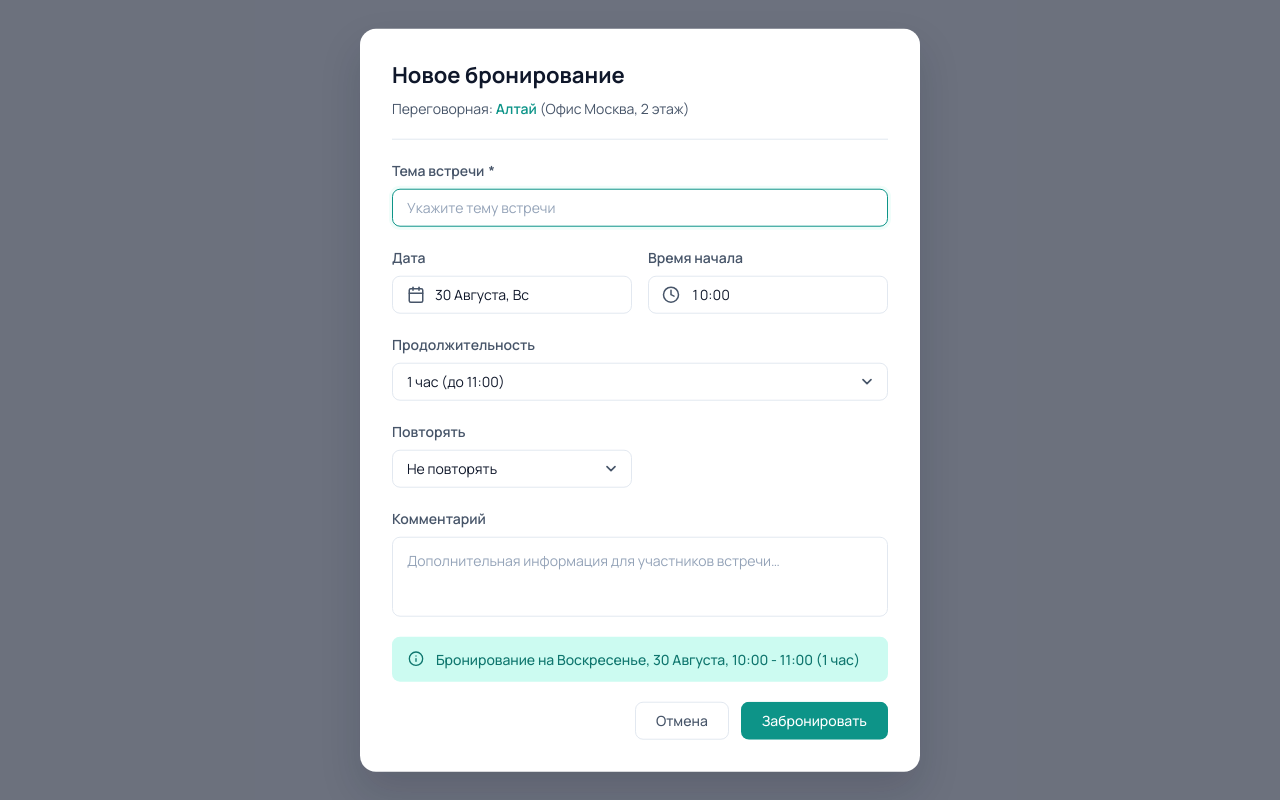
Test: CreateBookingDialog › создаёт бронь: тост об успехе и закрытие
In the field labelled "Тема встречи*": {"x": 640, "y": 207} 392,188 -> 888,226, type "Планёрка"
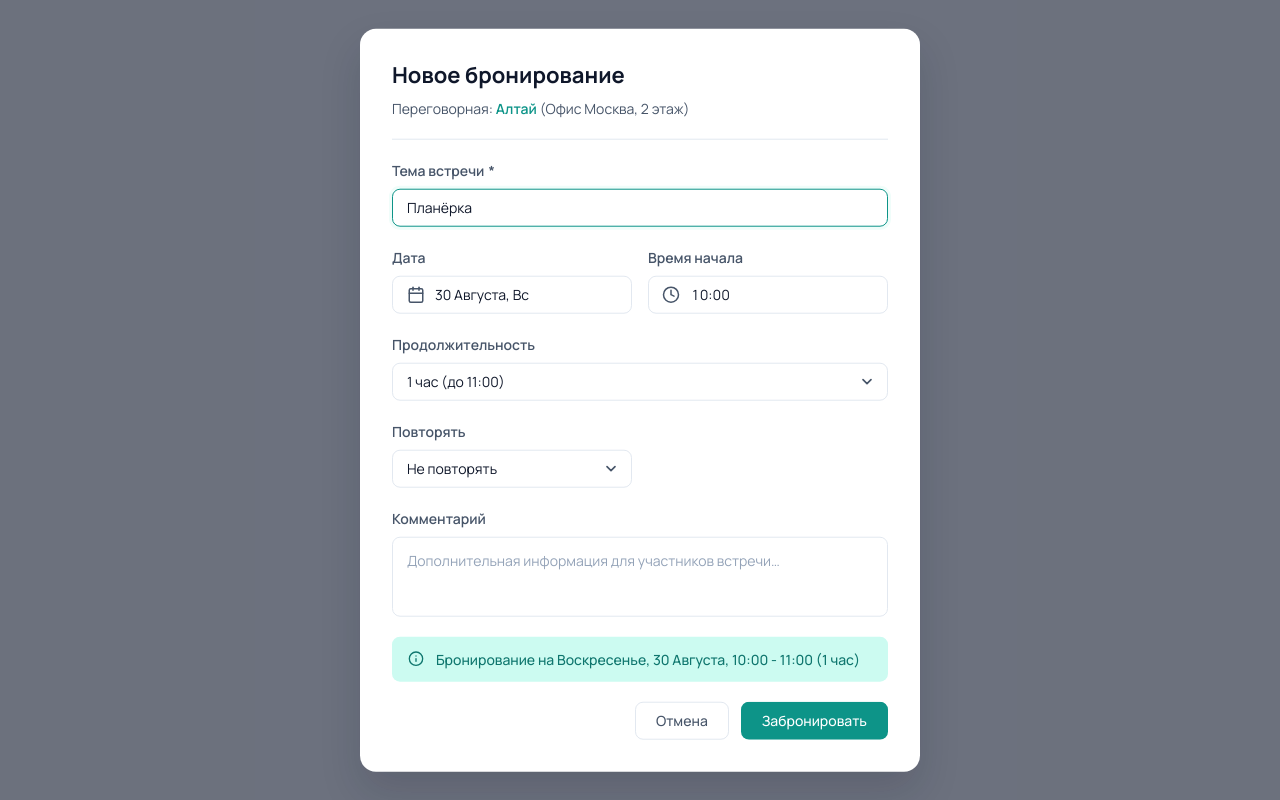
Click the button "Забронировать": {"x": 814, "y": 720} 741,701 -> 888,739
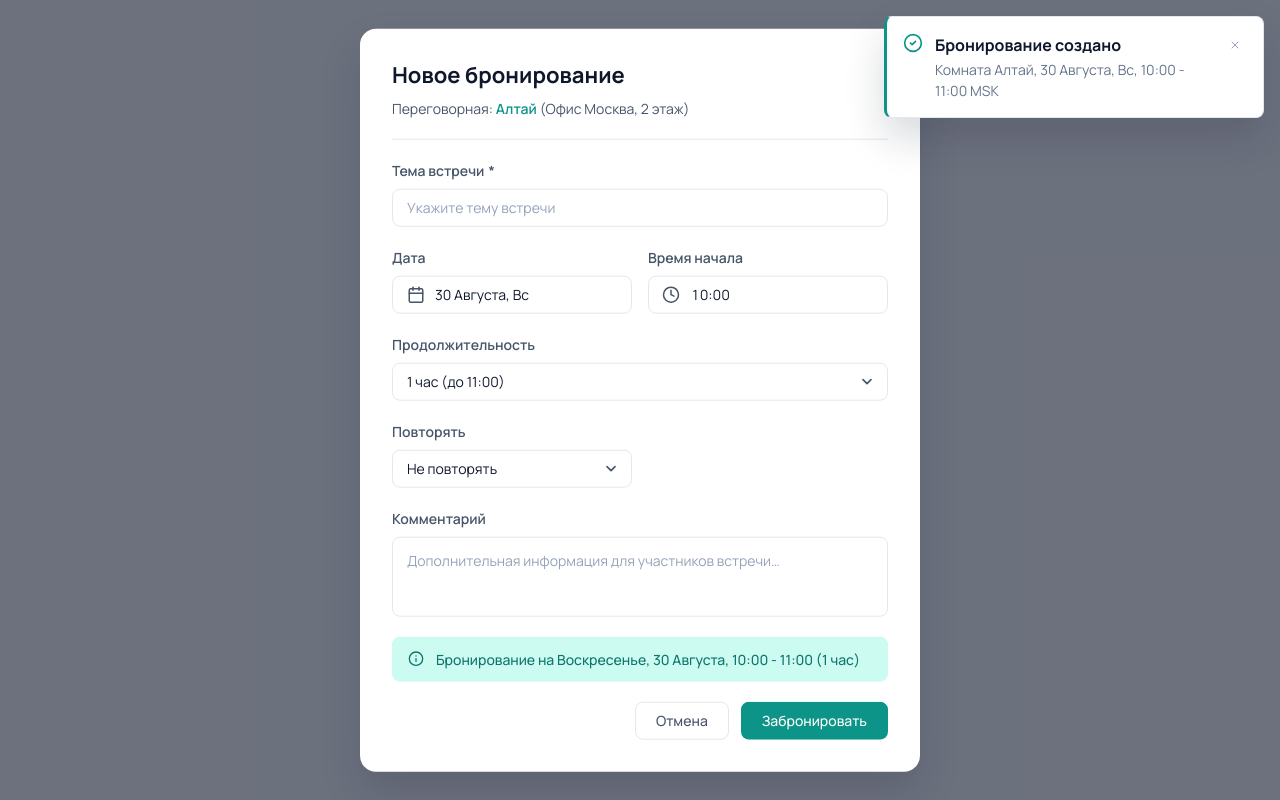
Check: the text "Бронирование создано" is shown, box 935,34 -> 1121,56
